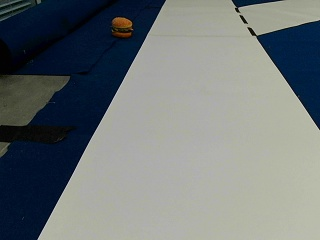burger: (111, 15, 134, 38)
